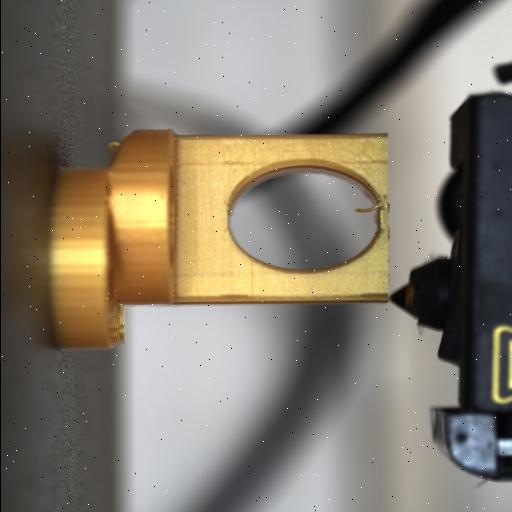layer_shift: (100, 126, 138, 350)
